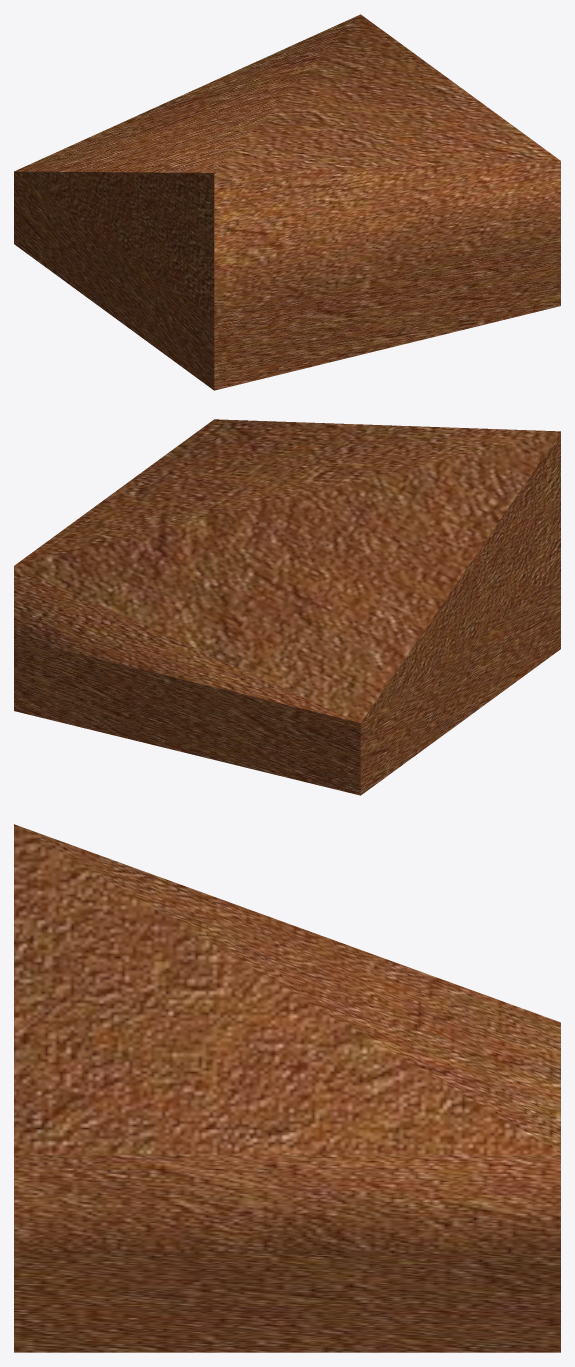
The model's file is Map0112.fbx.
3 renders of one model, top to bottom at view 1: azimuth 30°, elevation 25°; view 2: azimuth 150°, elevation 25°; view 3: azimuth 270°, elevation 25°, orthographic. The views are drawn at different scales.
Parts seen in each view (by area): view 1: Map0112, Map0000; view 2: Map0112, Map0000; view 3: Map0112, Map0000.
Boxes of the visible parts, bbox=[...] form: Map0112: bbox=[14, 14, 560, 317]; Map0000: bbox=[14, 172, 560, 390]; Map0112: bbox=[14, 419, 560, 722]; Map0000: bbox=[14, 577, 560, 795]; Map0112: bbox=[14, 824, 560, 1253]; Map0000: bbox=[14, 1253, 560, 1352].
Size of the model in its own units: 200 by 120 by 200.
2 materials, 2 textured.
